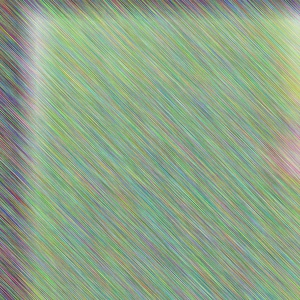Brown_Spot: (250, 106, 300, 215)
